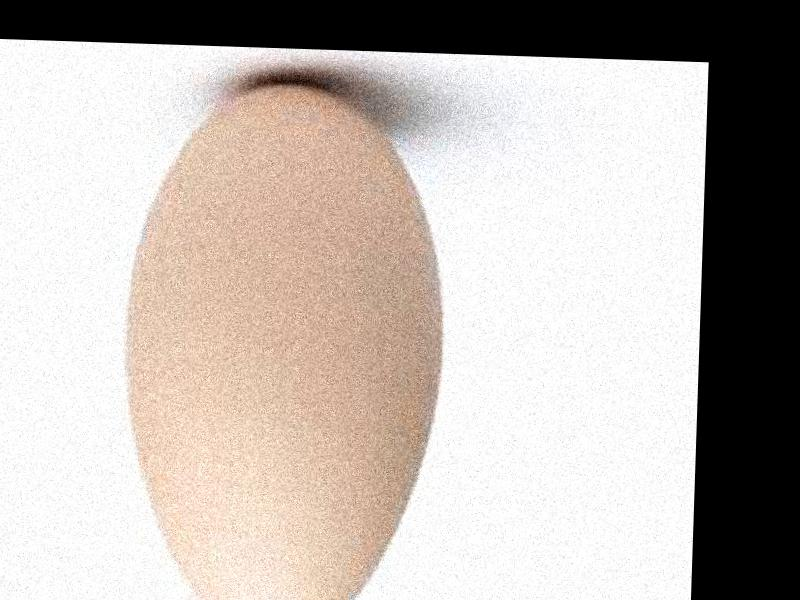Eggs: (118, 75, 450, 600)
